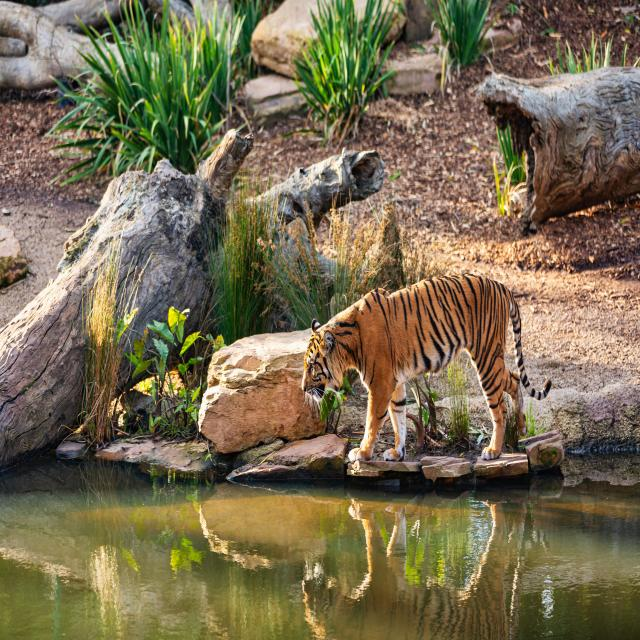Tiger: (303, 274, 552, 461)
